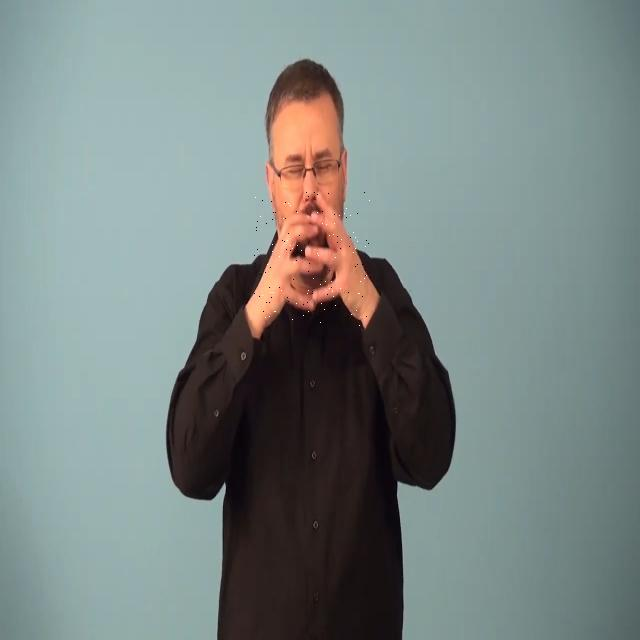juicy: (254, 192, 370, 326)
